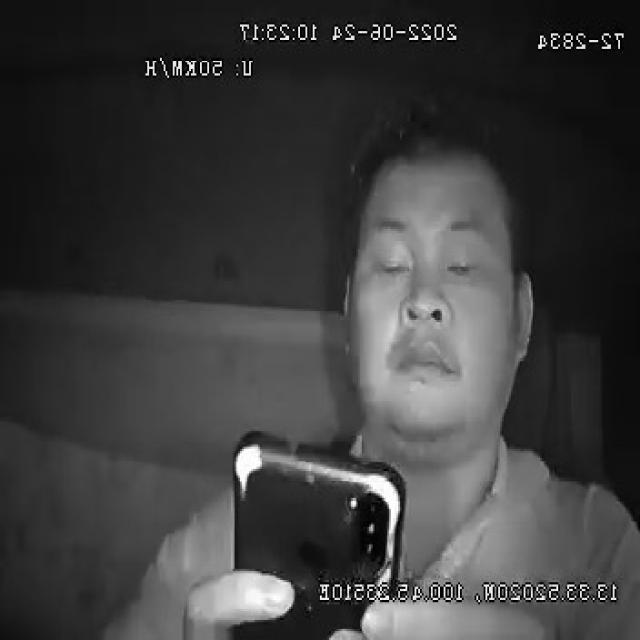phone: (237, 424, 408, 640)
